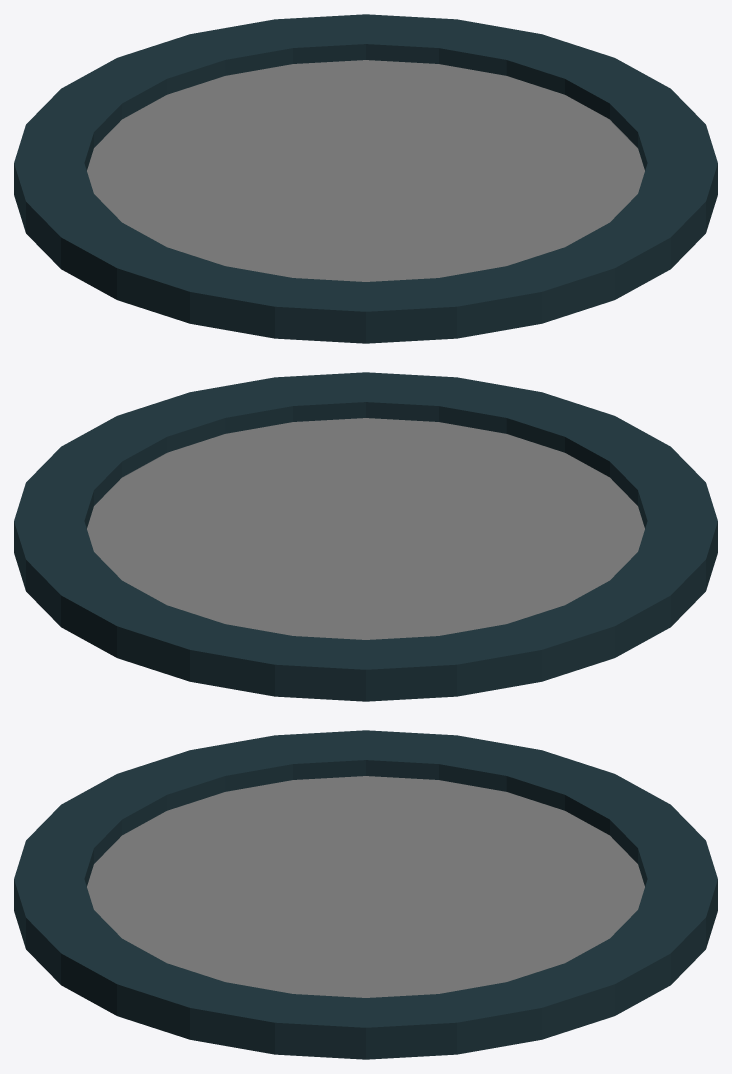
The model's file is Transfer.fbx.
3 views of the same model, one above another, from view 1: azimuth 30°, elevation 25°; view 2: azimuth 150°, elevation 25°; view 3: azimuth 270°, elevation 25° (orthographic).
Parts seen in each view (by area): view 1: Model; view 2: Model; view 3: Model.
Part boxes in pixels (x1,y1,x2,y2): Model: [14, 14, 717, 343]; Model: [14, 372, 717, 701]; Model: [14, 730, 717, 1059].
Bounding box in the file's own units: 200 × 10 × 200.
Materials: 1 (1 with a texture image).
